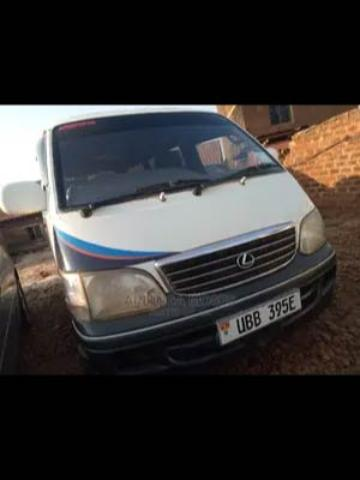van: (0, 108, 338, 366)
